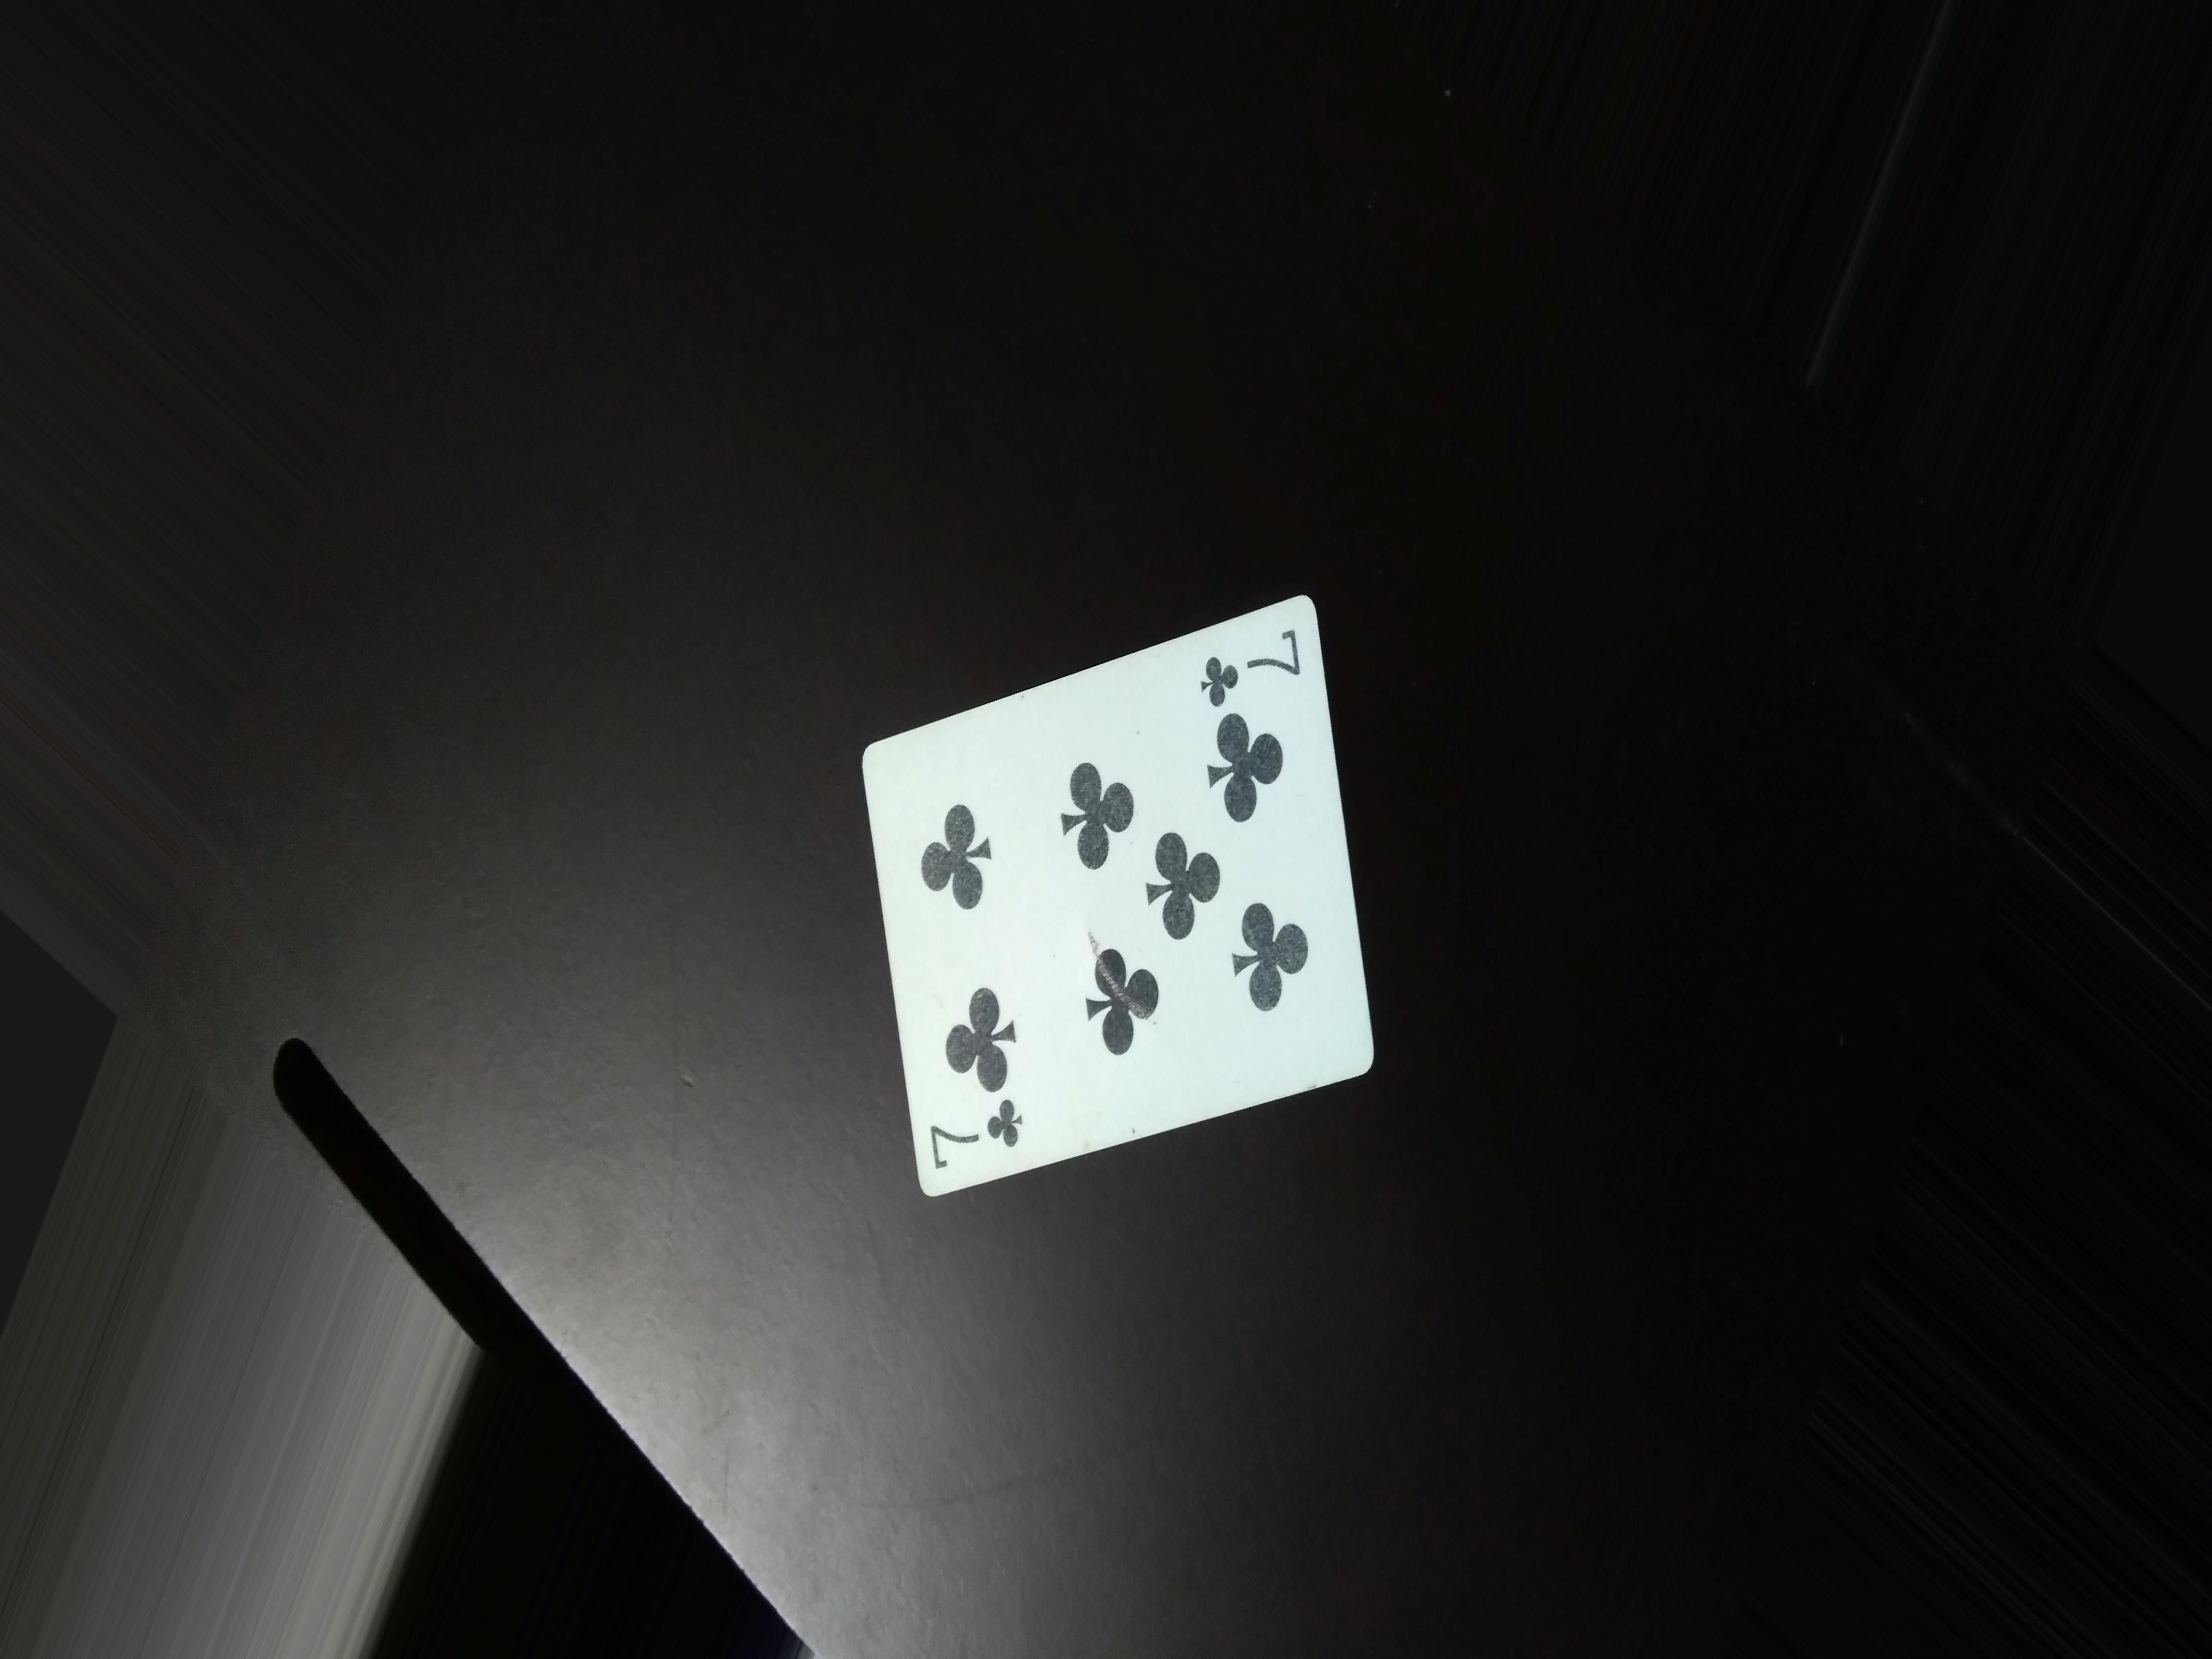7C: (1181, 619, 1318, 699)
